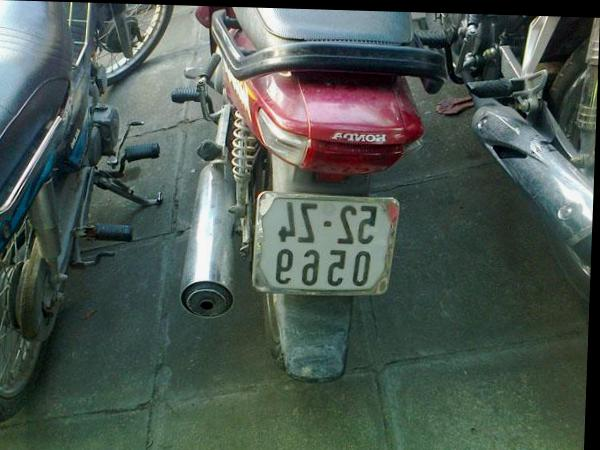License_Plate: (240, 193, 401, 297)
